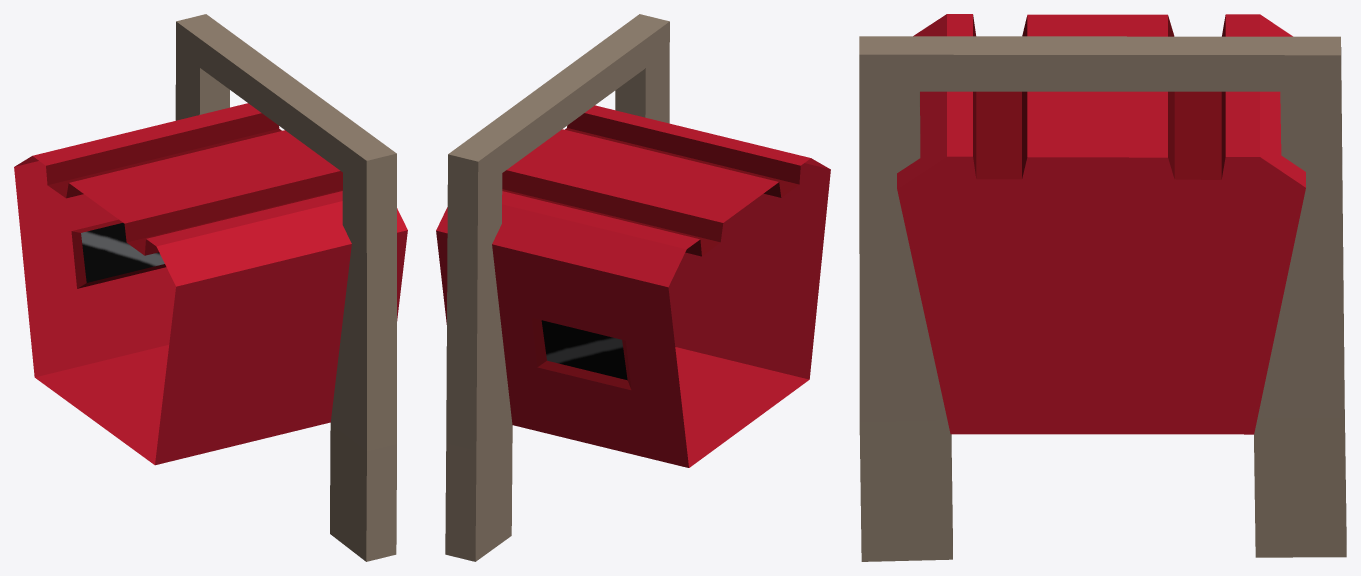
Rendered from house_left_v2.fbx.
The picture shows the model from 3 angles, left to right: view 1: azimuth 30°, elevation 25°; view 2: azimuth 150°, elevation 25°; view 3: azimuth 270°, elevation 25°; orthographic projection. The views are drawn at different scales.
Parts seen in each view (by area): view 1: house_left; view 2: house_left; view 3: house_left.
Boxes of the visible parts, x1,y1,x2,y2 form: house_left: [14, 14, 407, 561]; house_left: [436, 14, 830, 561]; house_left: [859, 14, 1346, 561].
Size of the model in its own units: 657 by 1088 by 947.
